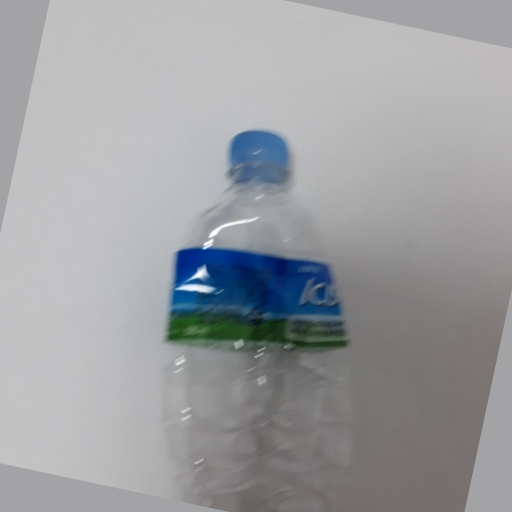Plastic_0: (157, 126, 364, 508)
